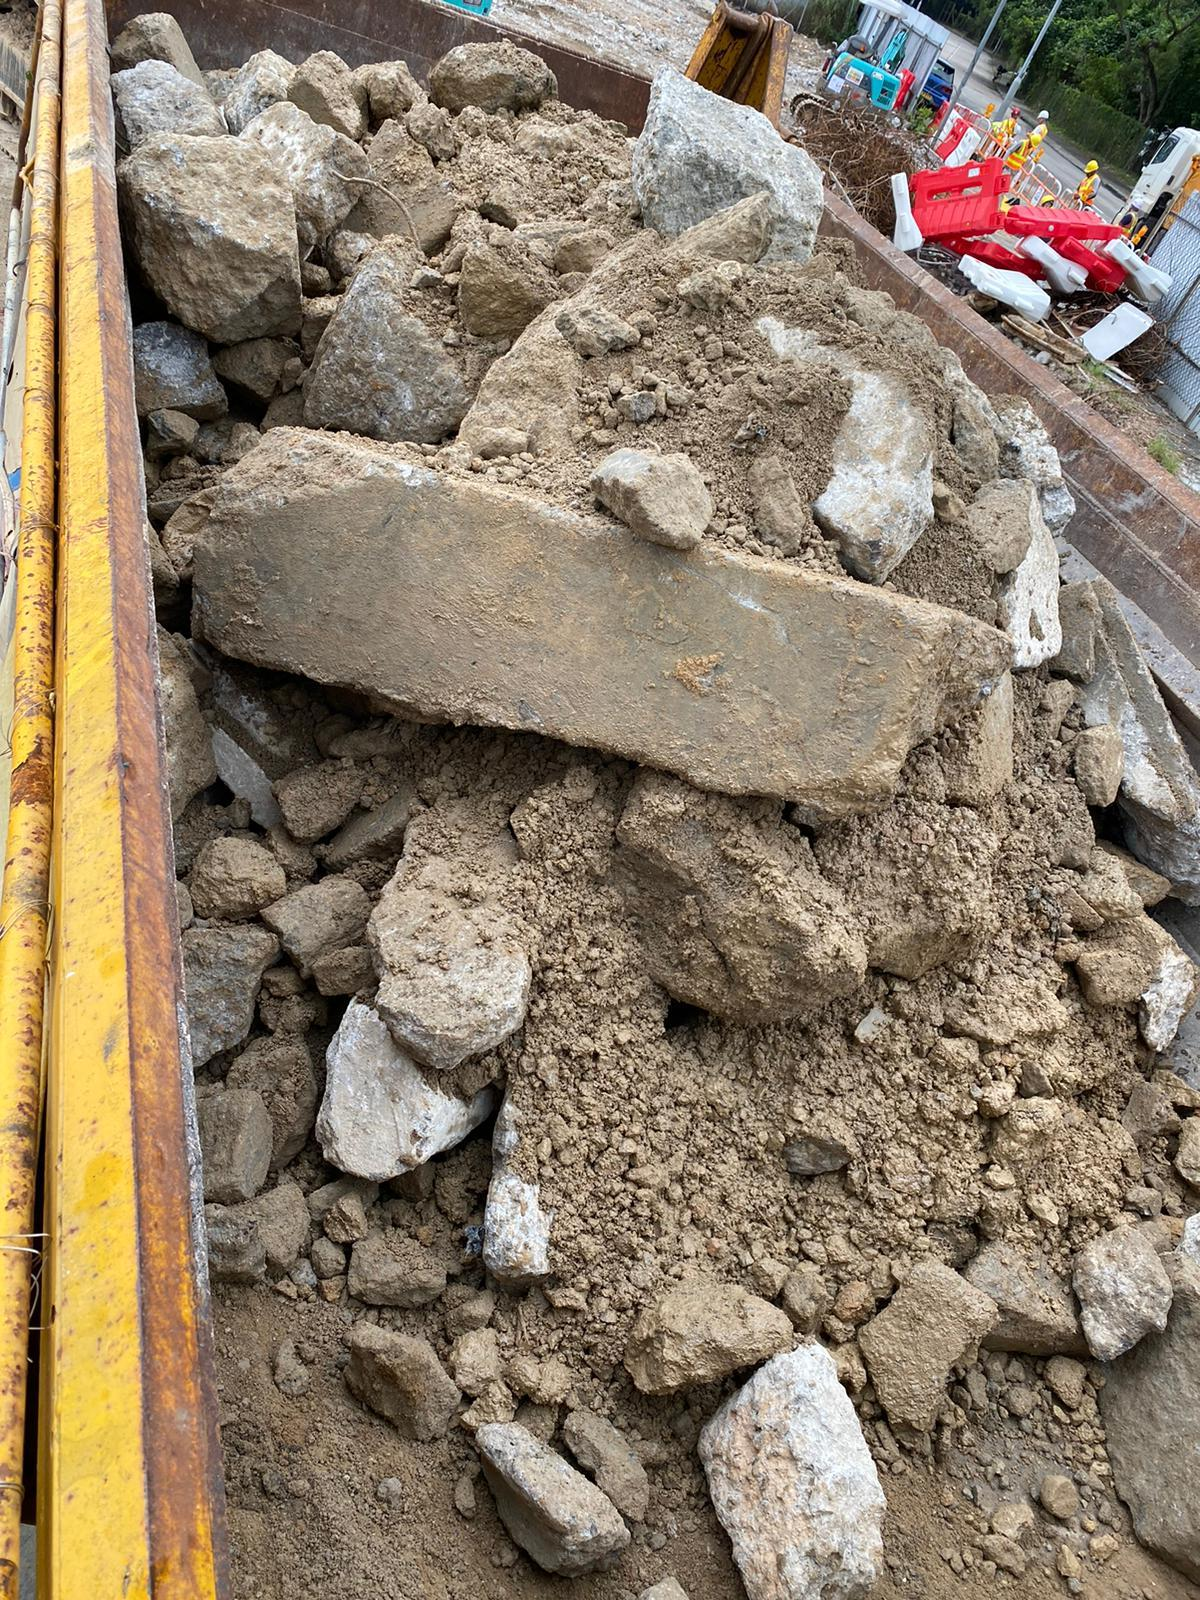dry: (155, 63, 1085, 1537)
